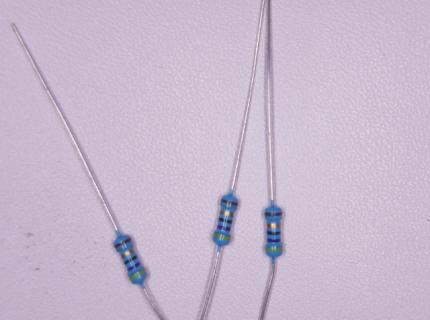Black band: (124, 254, 138, 265), (218, 217, 232, 224), (268, 231, 281, 235)
Brown band: (115, 238, 131, 249), (222, 199, 238, 205), (265, 212, 282, 216)
Gold band: (120, 247, 135, 259), (220, 210, 234, 217), (267, 223, 281, 228)
Violet band: (127, 261, 141, 271), (217, 225, 231, 232), (267, 238, 281, 242)
Yellow band: (129, 269, 147, 281), (213, 233, 231, 241), (265, 247, 283, 252)
